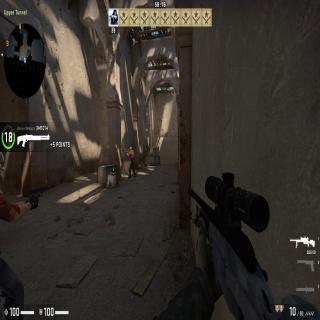T-Body: (0, 151, 40, 310), (127, 146, 136, 179)
T-Head: (0, 151, 4, 180), (128, 146, 132, 151)
